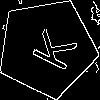K: (22, 22, 78, 73)
